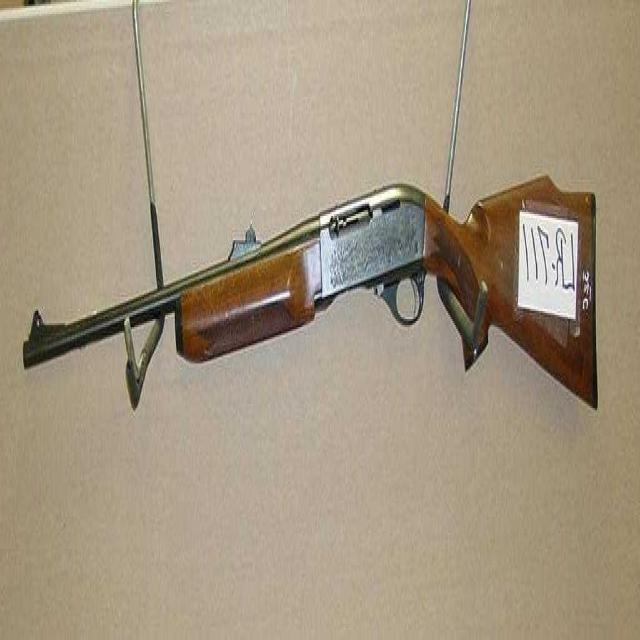heavyweapon: (12, 163, 614, 494)
